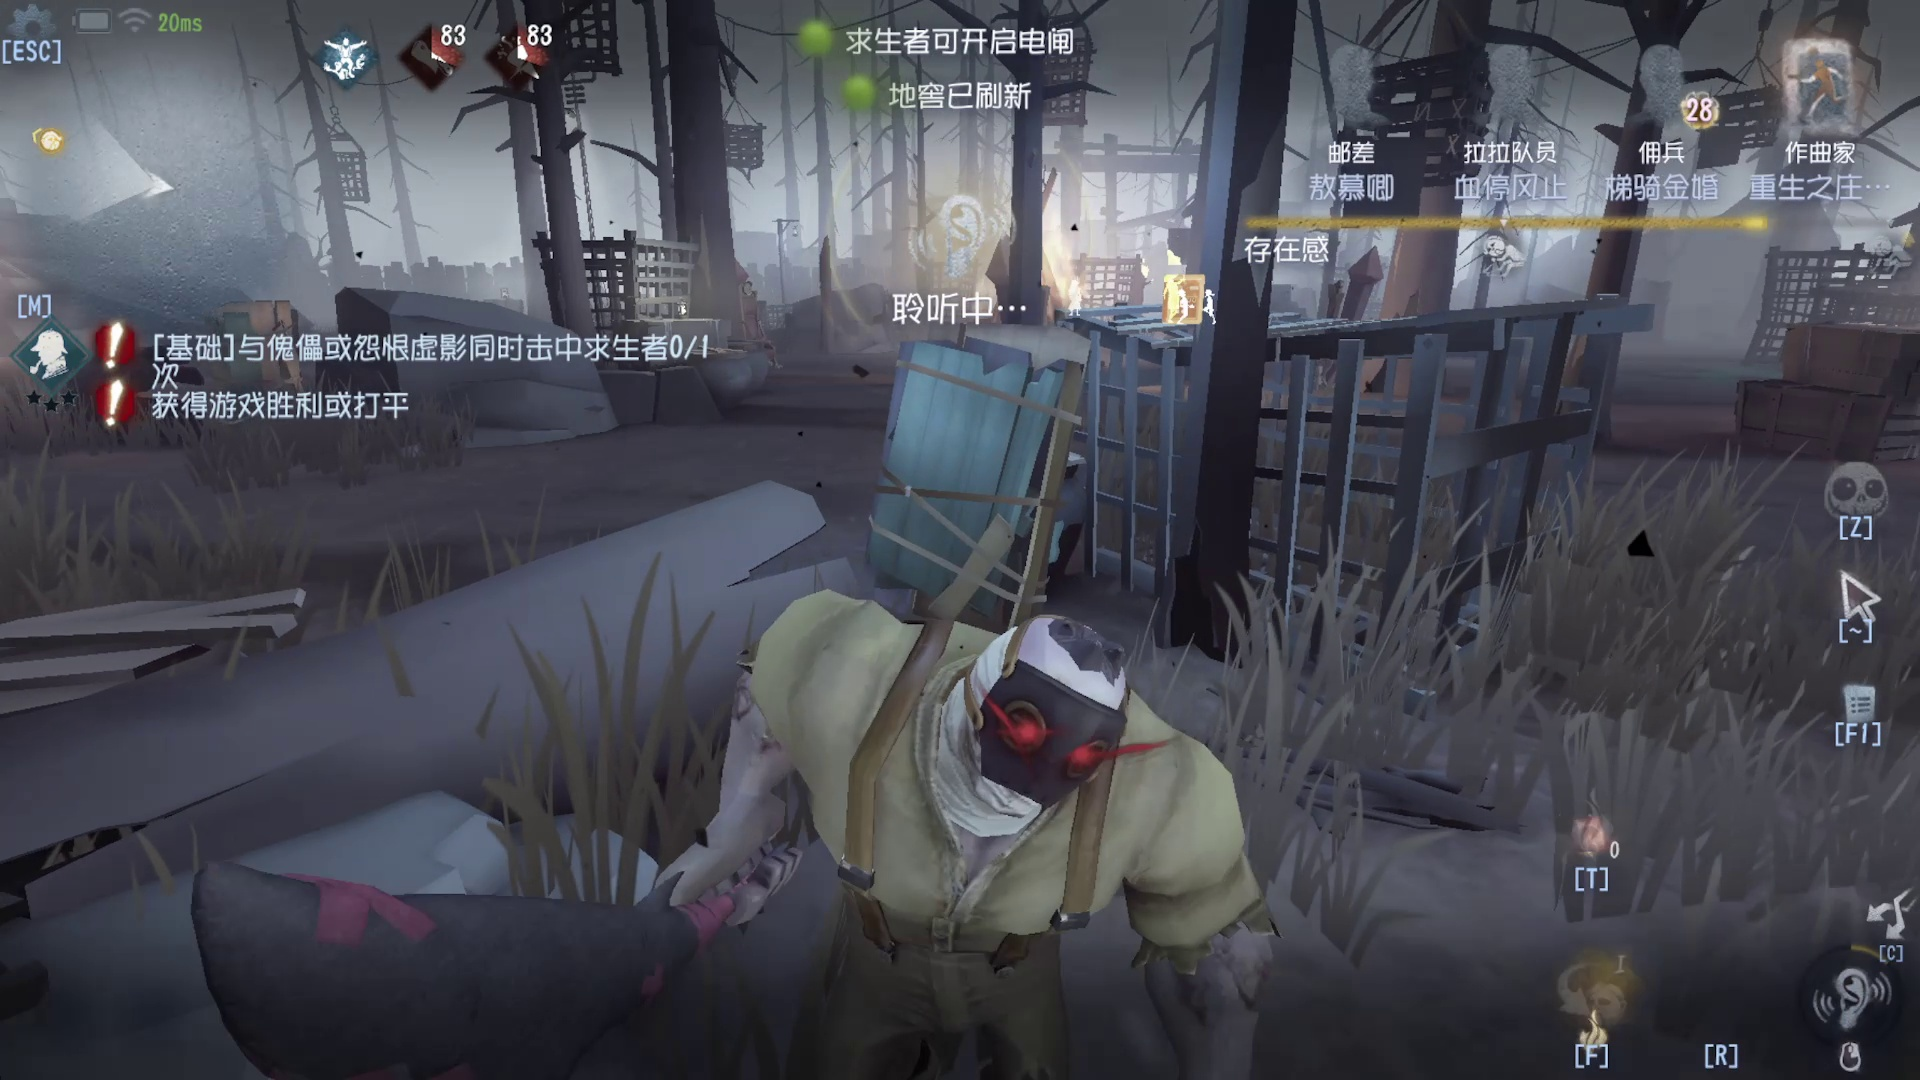木板: (836, 331, 1091, 645)
求生者: (1135, 256, 1241, 349)
狂欢之椅: (711, 247, 822, 398)
设置: (1, 1, 80, 78)
